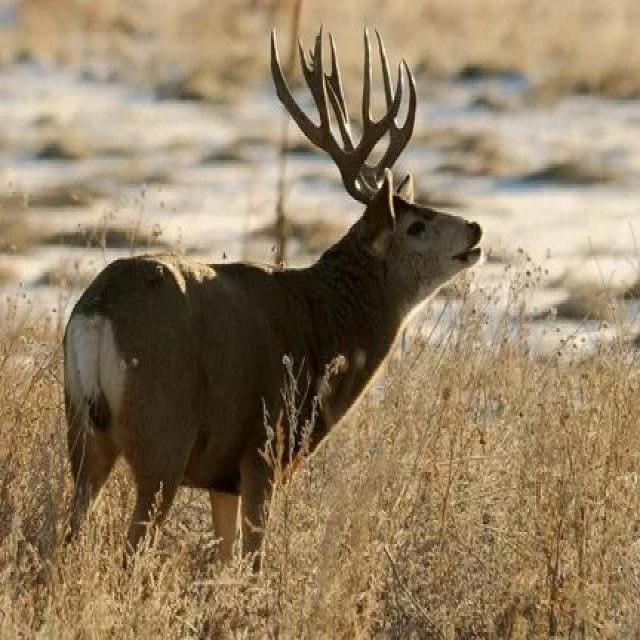deer: (66, 114, 462, 493)
